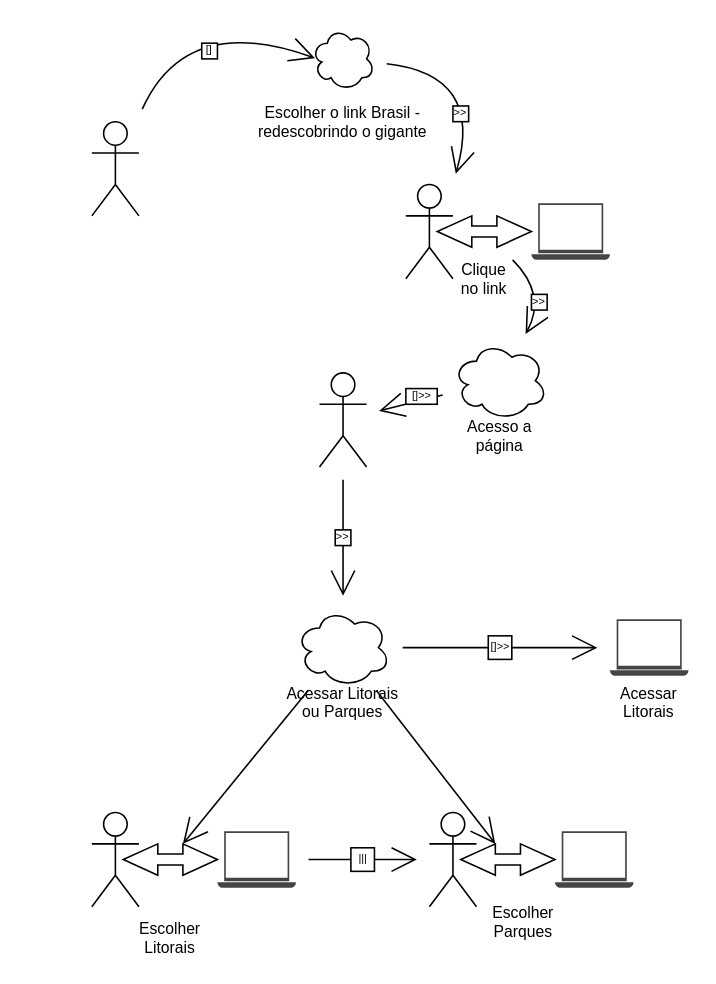
Image size: 716x984. Some labels were removed from this diagram. The centre of each missing label's shape, as x and y in pixels:
Ver as opções de acesso: (x=114, y=168)
Ver as opções de escola: (x=342, y=419)
